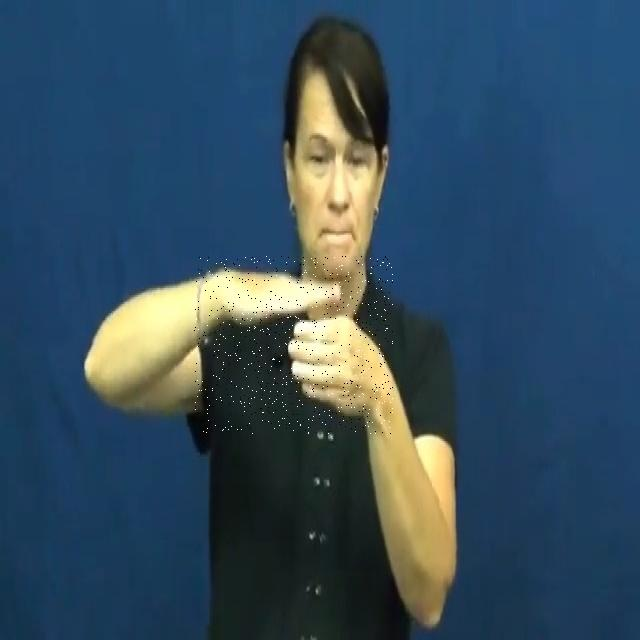lid: (194, 256, 393, 434)
